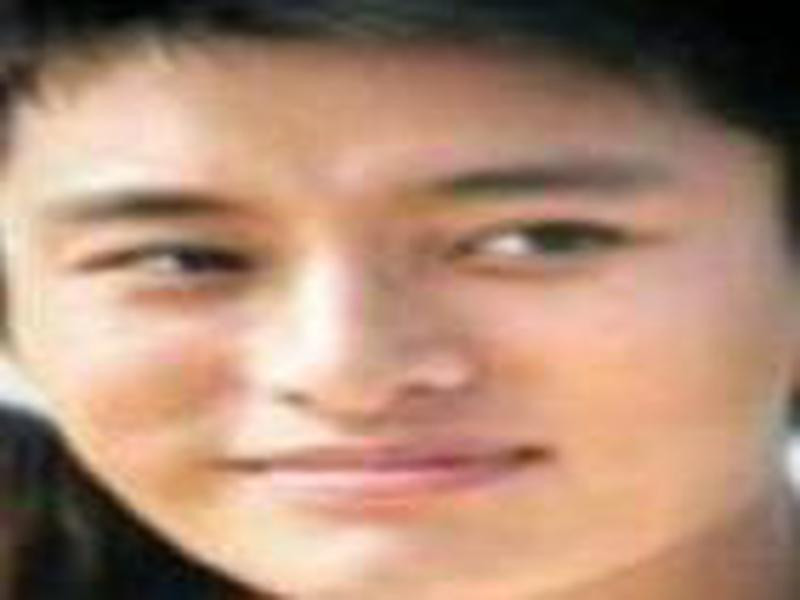without_mask: (6, 38, 774, 600)
